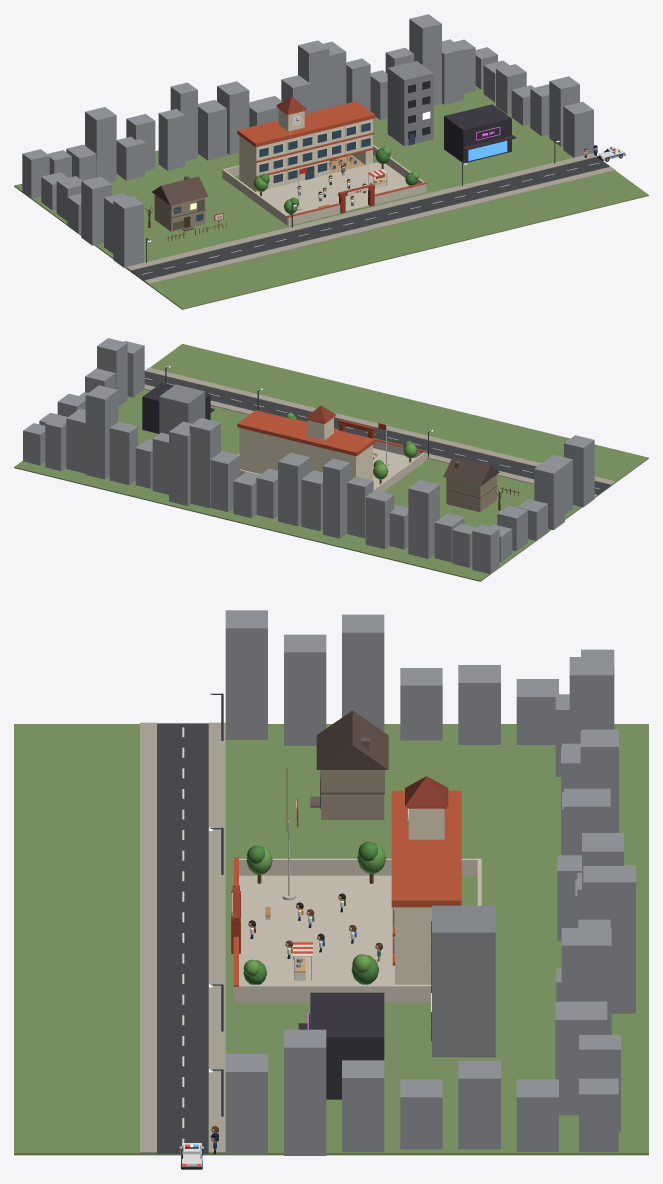
The model's file is 斷在學校.glb.
3 views of the same model, one above another, from view 1: azimuth 30°, elevation 25°; view 2: azimuth 150°, elevation 25°; view 3: azimuth 270°, elevation 25° (orthographic). The views are drawn at different scales.
Parts seen in each view (by area): view 1: 城市背景, 地面, 學校主樓, 道路, 學校中庭, 繭居公寓, 人行道_2, 網咖, 人行道, 學校圍牆, 破舊房屋, 學校_窗 (+5 smaller); view 2: 城市背景, 地面, 學校主樓, 道路, 破舊房屋, 人行道_2, 繭居公寓, 網咖, 學校圍牆, 人行道, 學校中庭, 學校_樹; view 3: 地面, 城市背景, 道路, 學校中庭, 學校主樓, 繭居公寓, 人行道, 人行道_2, 破舊房屋, 學校圍牆, 網咖, 學校_樹.
Part boxes in pixels (x1,y1,x2,y2): 城市背景: [22, 14, 593, 267]; 地面: [14, 86, 648, 309]; 學校主樓: [237, 96, 375, 191]; 道路: [131, 157, 609, 280]; 學校中庭: [256, 162, 408, 215]; 繭居公寓: [387, 61, 433, 146]; 人行道_2: [144, 166, 615, 284]; 網咖: [444, 104, 515, 163]; 人行道: [126, 153, 597, 270]; 學校圍牆: [222, 144, 426, 225]; 破舊房屋: [152, 176, 208, 231]; 學校_窗: [259, 122, 370, 183]; 城市背景: [23, 338, 594, 574]; 地面: [14, 344, 648, 581]; 學校主樓: [237, 405, 375, 480]; 道路: [144, 371, 610, 494]; 破舊房屋: [443, 457, 499, 512]; 人行道_2: [145, 367, 615, 484]; 繭居公寓: [159, 384, 205, 434]; 網咖: [142, 382, 214, 433]; 學校圍牆: [237, 419, 426, 491]; 人行道: [144, 384, 597, 496]; 學校中庭: [373, 448, 414, 488]; 學校_樹: [286, 412, 417, 483]; 地面: [14, 724, 648, 1155]; 城市背景: [225, 610, 635, 1155]; 道路: [157, 723, 208, 1153]; 學校中庭: [239, 875, 394, 984]; 學校主樓: [391, 776, 461, 984]; 繭居公寓: [432, 905, 495, 1057]; 人行道: [208, 722, 225, 1153]; 人行道_2: [140, 722, 156, 1153]; 破舊房屋: [316, 710, 388, 819]; 學校圍牆: [233, 857, 481, 1002]; 網咖: [298, 992, 384, 1099]; 學校_樹: [243, 841, 386, 984].
Bounding box in the file's own units: 101 × 15.92 × 60.
